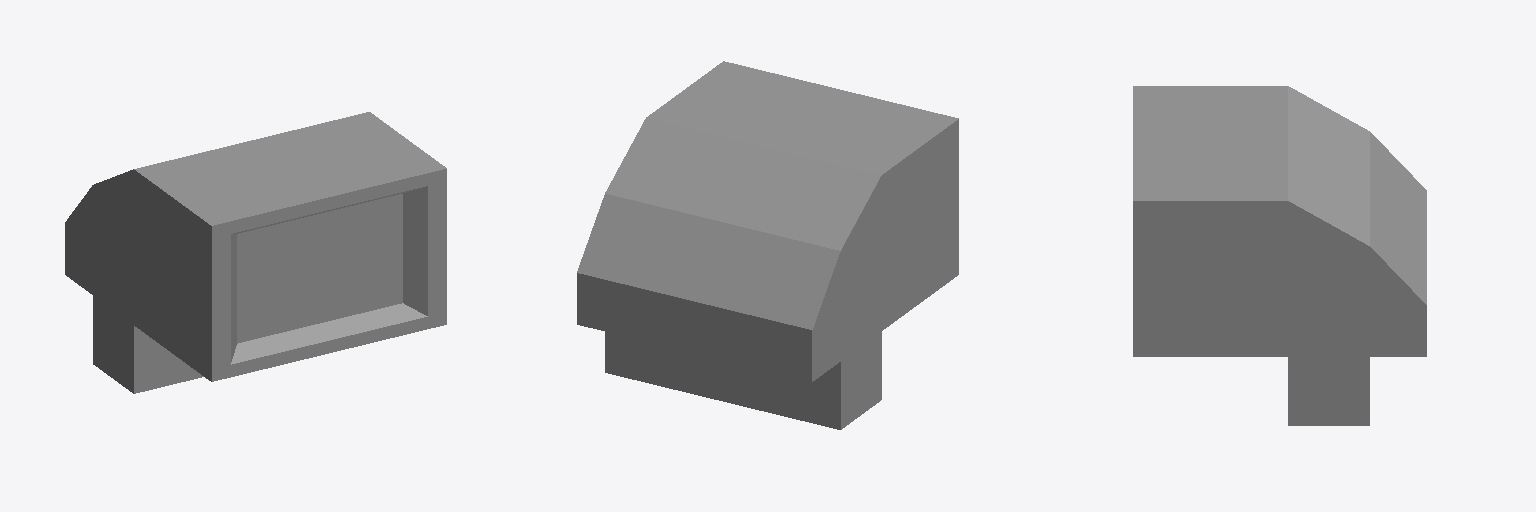
File: car_top_lighter.obj
3 views of the same model, side by side, from view 1: azimuth 30°, elevation 25°; view 2: azimuth 150°, elevation 25°; view 3: azimuth 270°, elevation 25° (orthographic).
Parts seen in each view (by area): view 1: Cube; view 2: Cube; view 3: Cube.
Part boxes in pixels (x1,y1,x2,y2): Cube: (65,112,446,393); Cube: (577,61,958,429); Cube: (1133,86,1426,425).
Bounding box in the file's own units: 0.2579 × 0.2351 × 0.2781.